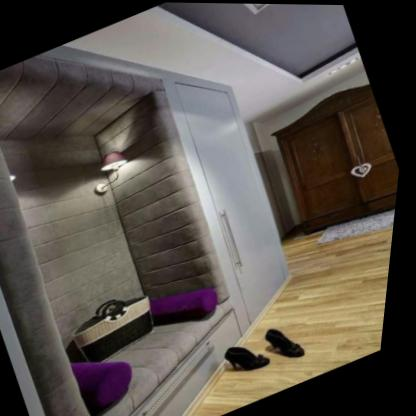Wooden floor: (190, 225, 398, 416)
